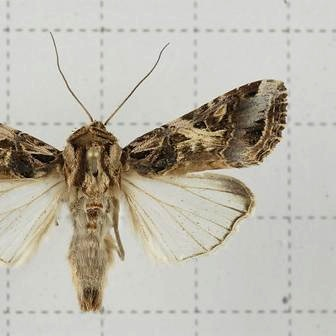Spodoptera litura: (1, 31, 288, 311)
